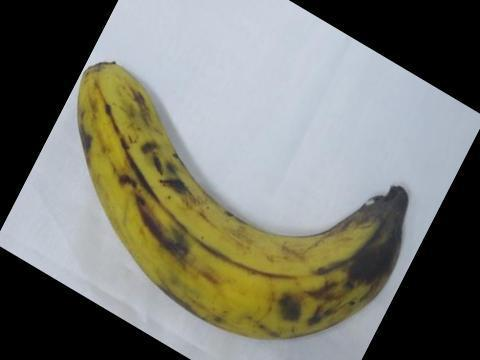overripe: (64, 46, 423, 345)
rotten: (338, 171, 417, 274)
